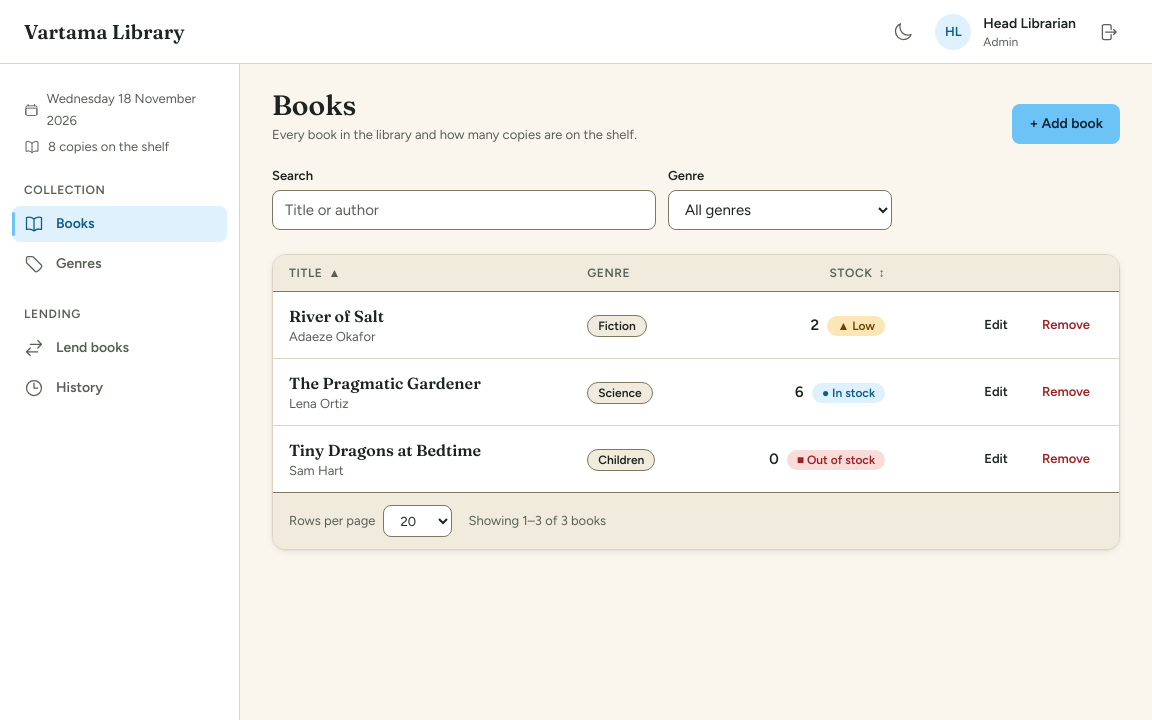
Add book (admin) › opens in a modal with the Title field focused
The image size is (1152, 720).
Expected: the text "River of Salt" is shown, [289, 306, 384, 326]
Click the button "+ Add book".
click(1066, 124)  # box [1012, 104, 1120, 144]
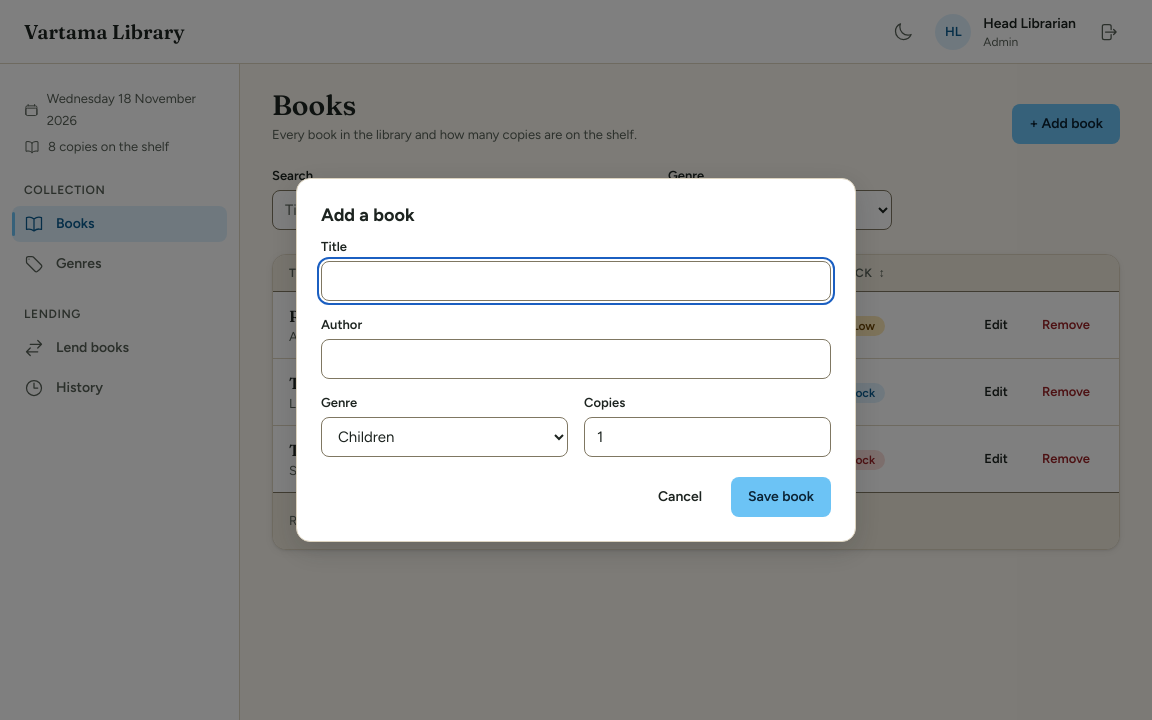
Now the dropdown labelled "Genre" shows "Children", box [321, 417, 568, 457]
Now the number field labelled "Copies" holds "1", box [584, 417, 831, 457]
